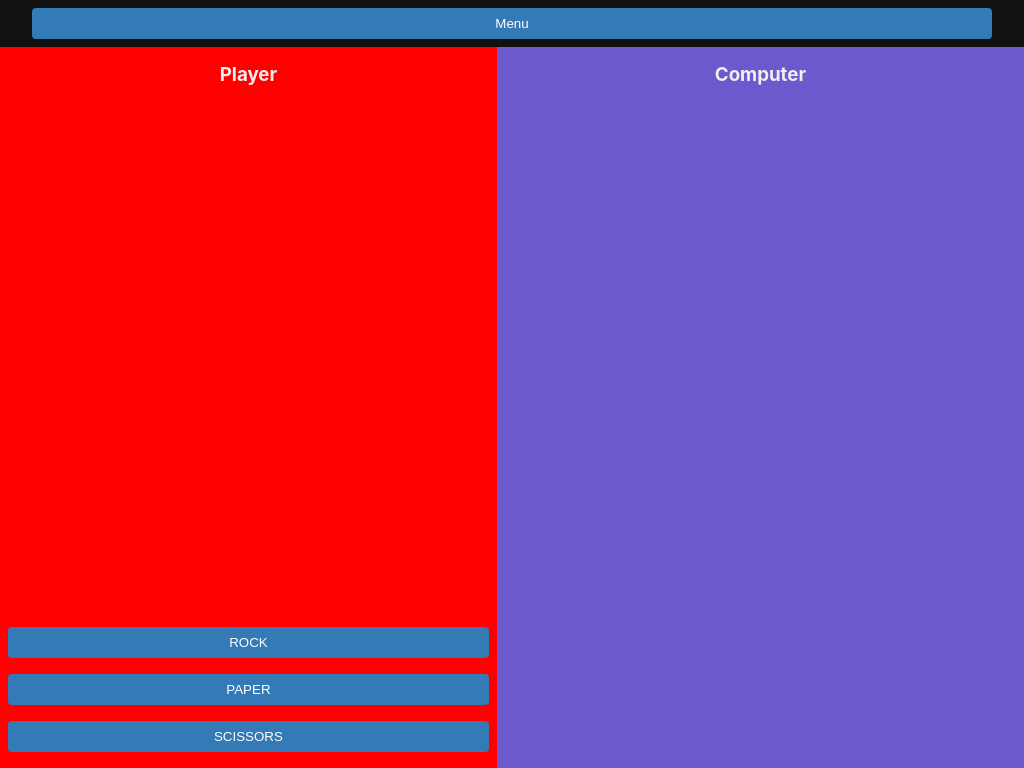
Test: player vs com › player vs com, after play again check options are not disabled
Click the button "ROCK": (248, 642) 8,627 -> 489,658
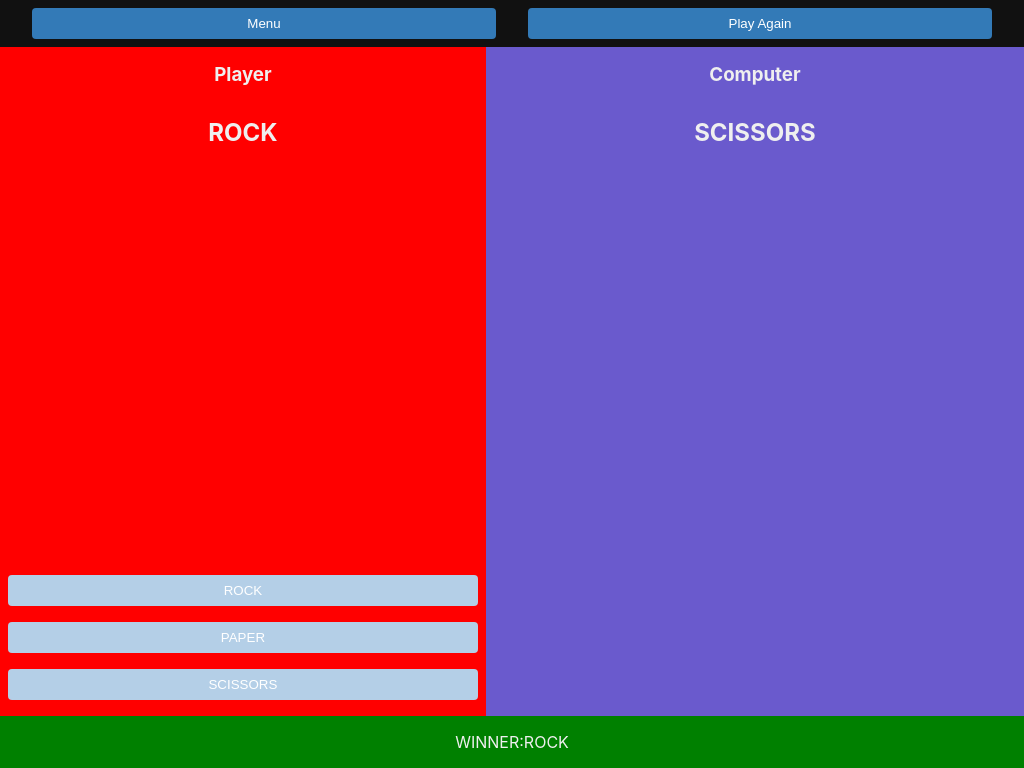
Expected: the button "ROCK" is disabled, 8,575 -> 478,606
Click the button "Play Again": (760, 24) 528,8 -> 992,39
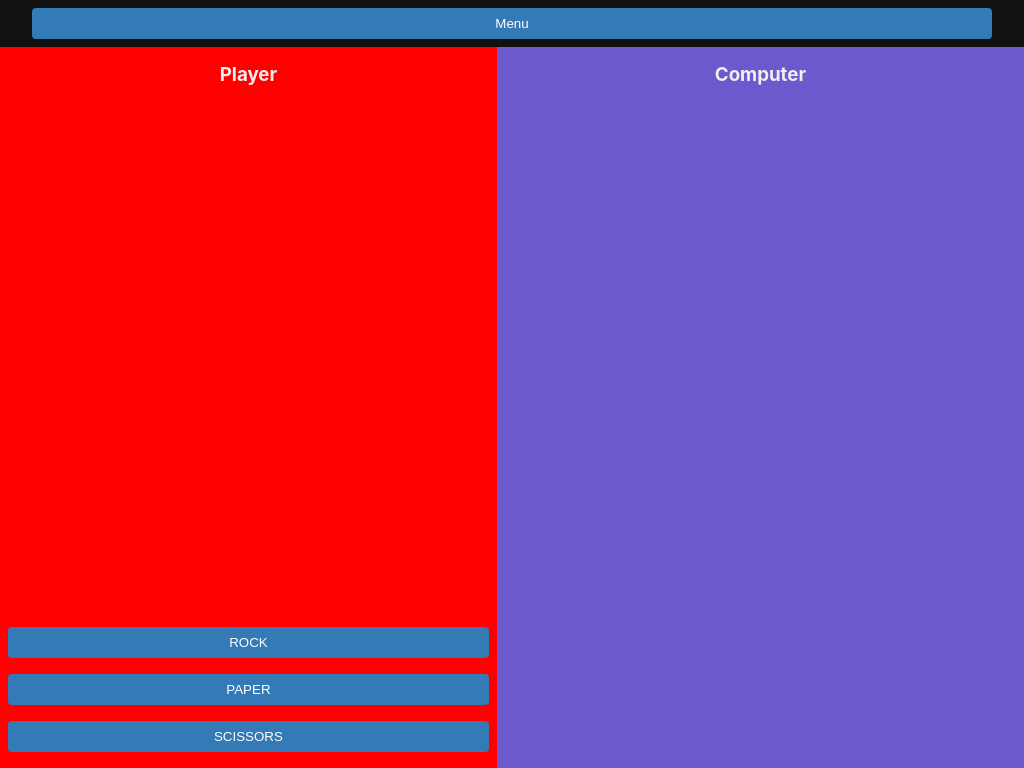
Expected: the button "ROCK" is enabled, 8,627 -> 489,658
